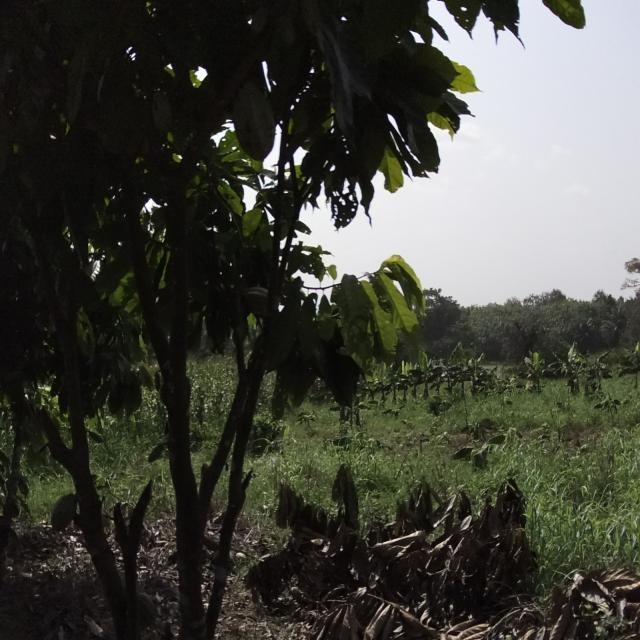Immature: (146, 441, 178, 470)
Mature_Unripe: (232, 75, 282, 159), (47, 479, 90, 537), (237, 277, 280, 319)
